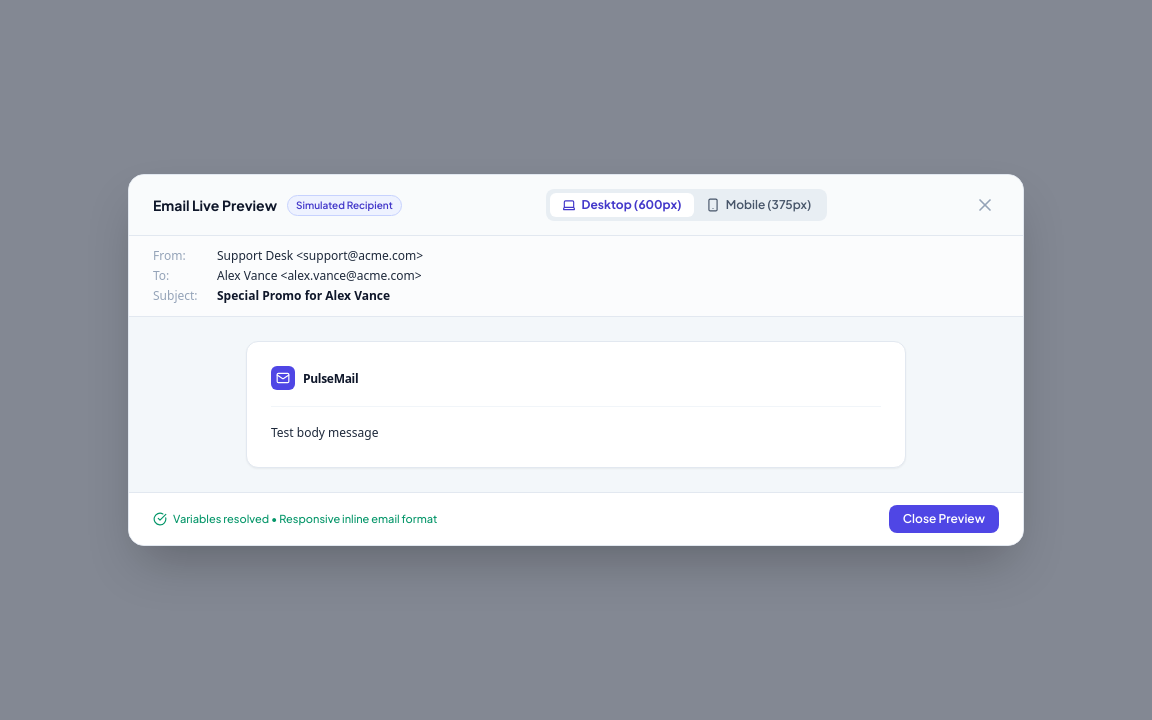
Template Studio & Modular Blocks System › 5. TemplatePreviewModal › renders preview with Desktop (600px) and Mobile (375px) switcher
Expected: the text "Email Live Preview" is shown, x1=153 y1=195 x2=277 y2=215
Expected: the text "Special Promo for Alex Vance" is shown, x1=217 y1=288 x2=390 y2=304
Note: Switch to mobile mode
Click the button "Mobile (375px)": (758, 205) x1=694 y1=193 x2=823 y2=217
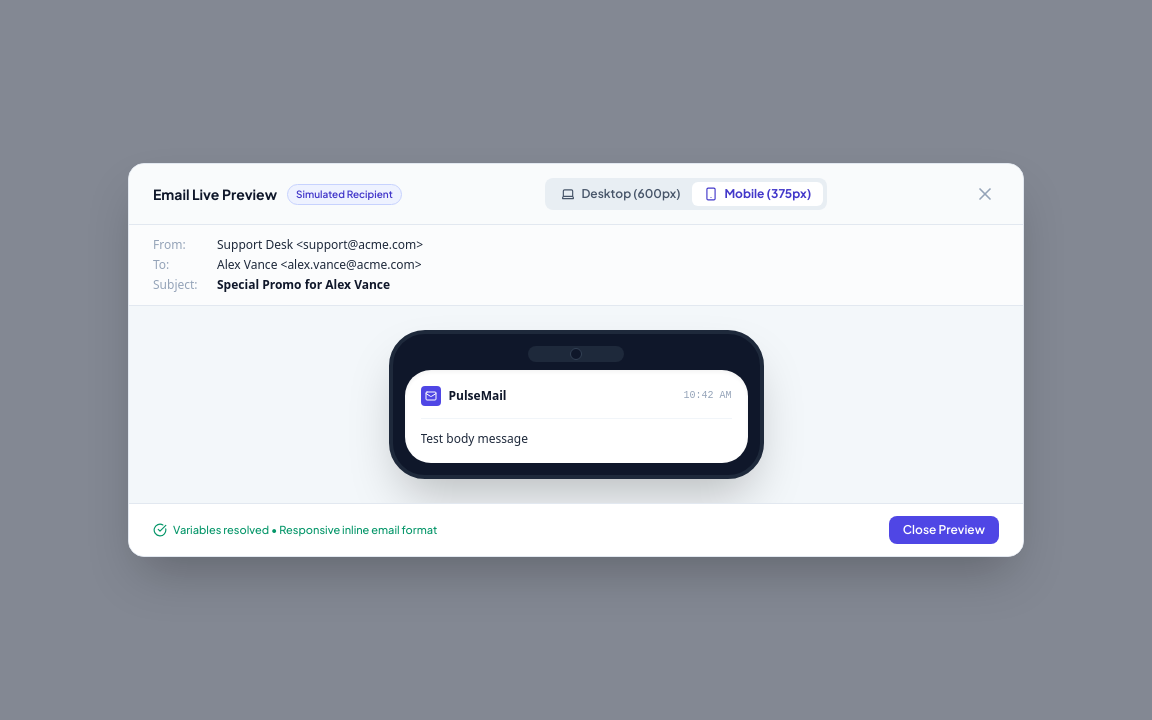
Now the text "10:42 AM" is shown, box x1=684 y1=388 x2=732 y2=404
